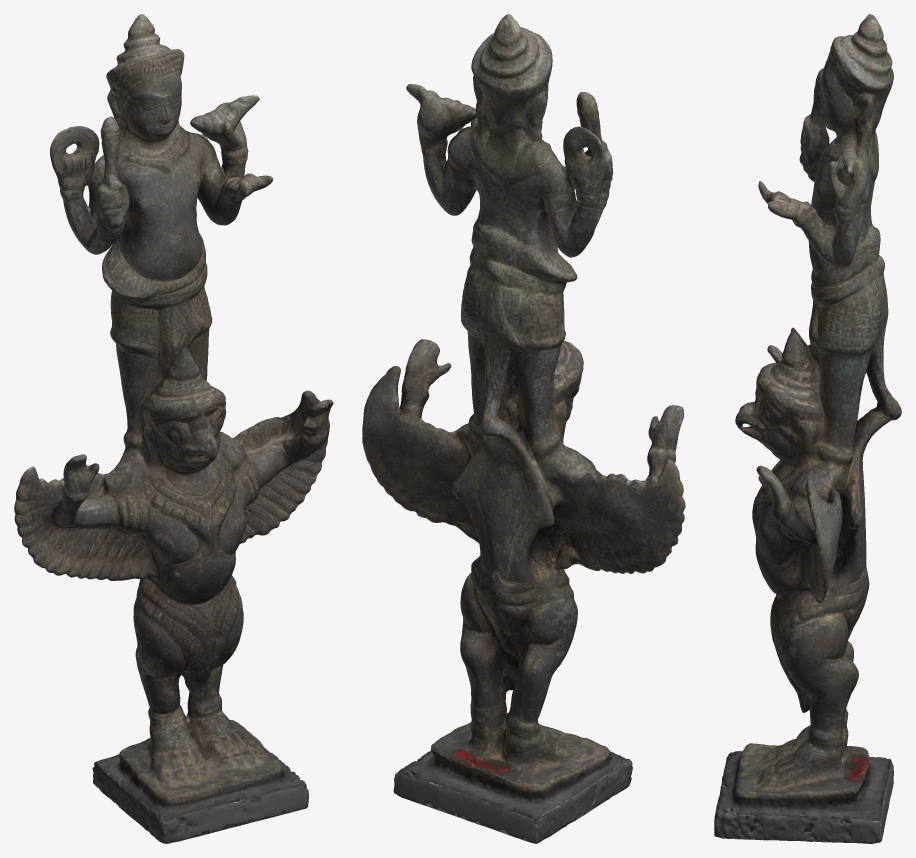
File: Vishnu on Garuda Fixed.fbx
3 views of the same model, side by side, from view 1: azimuth 30°, elevation 25°; view 2: azimuth 150°, elevation 25°; view 3: azimuth 270°, elevation 25° (orthographic). The views are drawn at different scales.
Parts seen in each view (by area): view 1: Mia_008321_VishnuGaruda_64k_OBJ:polySurface1; view 2: Mia_008321_VishnuGaruda_64k_OBJ:polySurface1; view 3: Mia_008321_VishnuGaruda_64k_OBJ:polySurface1.
Part boxes in pixels (x1=…): Mia_008321_VishnuGaruda_64k_OBJ:polySurface1: x1=14, y1=14, x2=333, y2=843; Mia_008321_VishnuGaruda_64k_OBJ:polySurface1: x1=362, y1=14, x2=685, y2=843; Mia_008321_VishnuGaruda_64k_OBJ:polySurface1: x1=714, y1=14, x2=901, y2=843.
Size of the model in its own units: 0.0776 by 0.1843 by 0.0398.
1 material, 1 textured.
